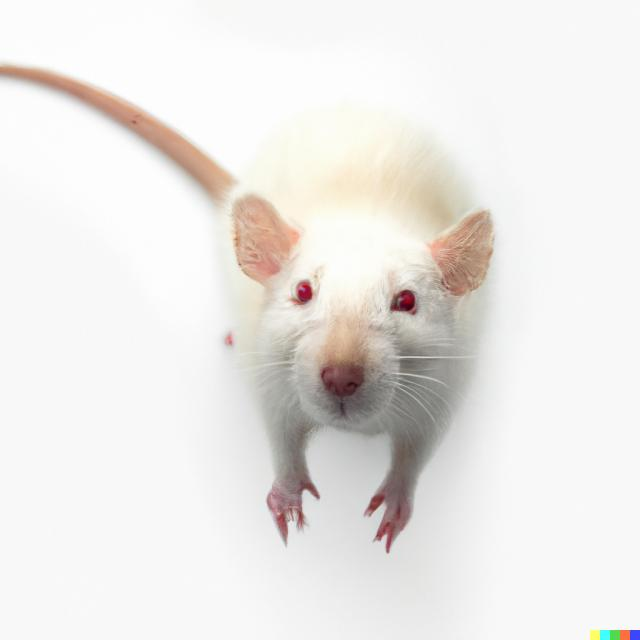rodent: (197, 119, 537, 558)
